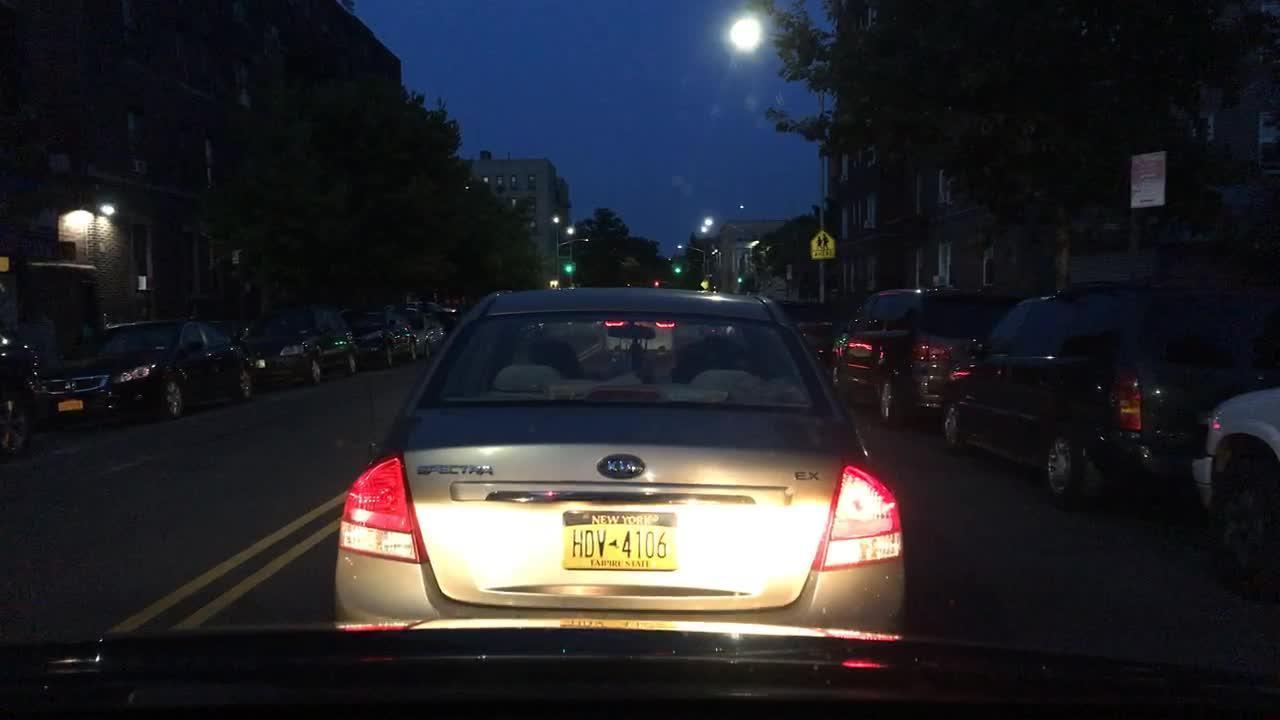kia: (597, 446, 652, 481)
